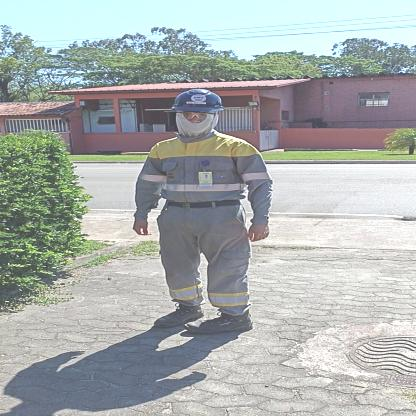Balaclava: (170, 107, 218, 135)
Capacete: (172, 87, 225, 110)
